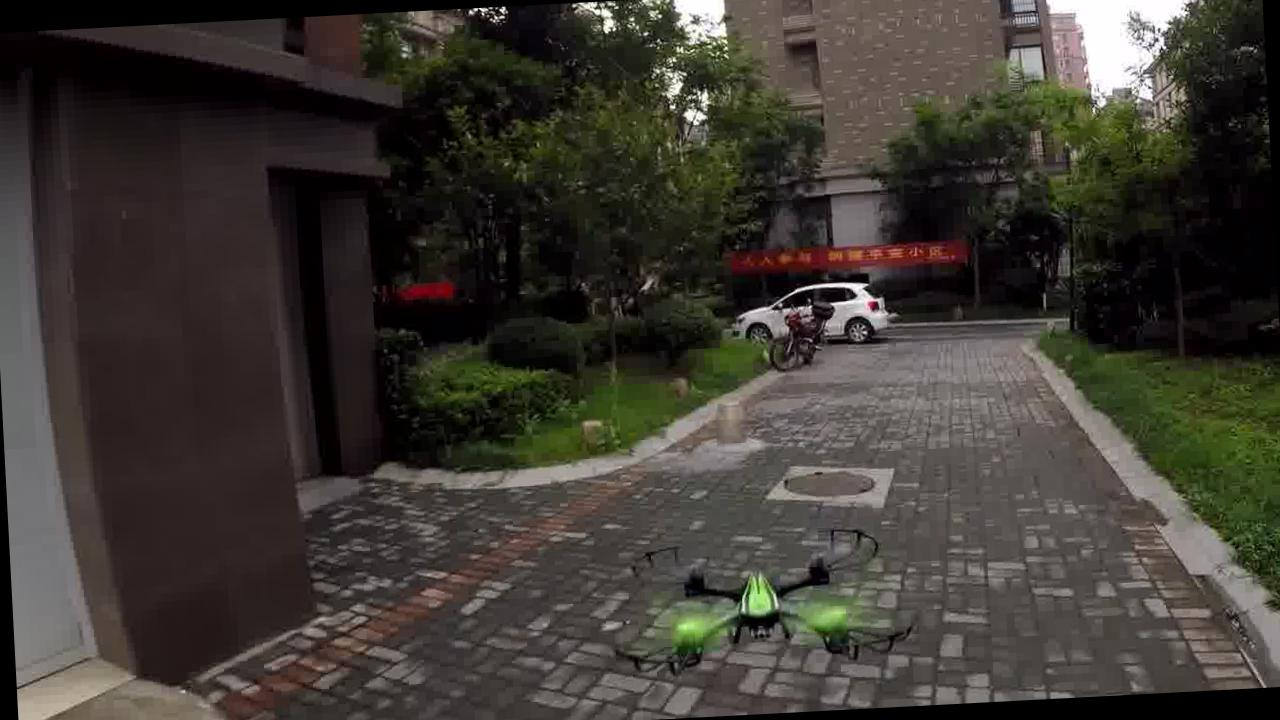drone: (586, 514, 911, 688)
